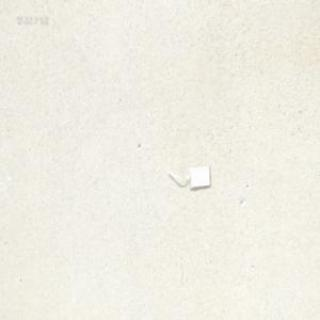LuggageTagtrack_idkeyframe: (166, 162, 211, 190)
